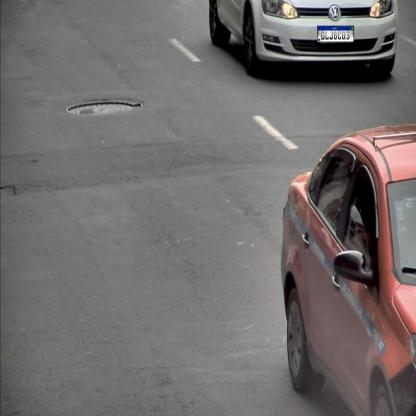PlacaM: (317, 26, 354, 42)
